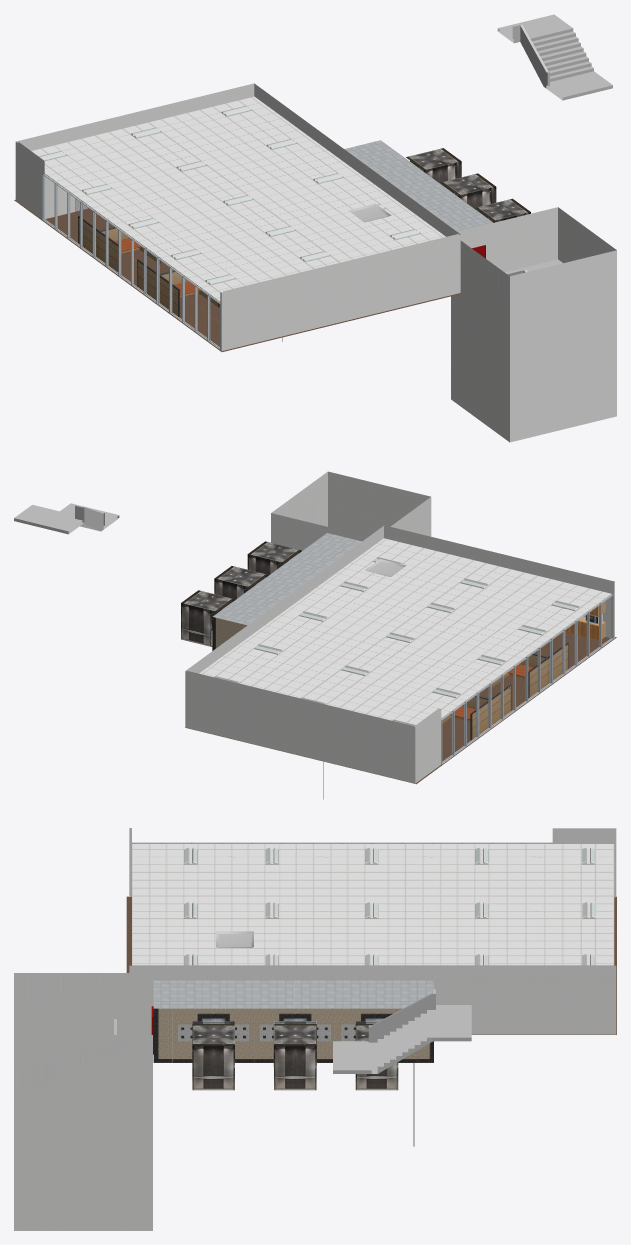
The picture shows the model from 3 angles, top to bottom: view 1: azimuth 30°, elevation 25°; view 2: azimuth 150°, elevation 25°; view 3: azimuth 270°, elevation 25°; orthographic projection. The views are drawn at different scales.
Parts seen in each view (by area): view 1: Ceiling, BigWall, polySurface112, StairsPart1, polySurface110, Stairspart2, polySurface113, Floor, OfficeCubicle1, OfficeCubicle, ElevatorShaft1, ElevatorShaft2 (+2 smaller); view 2: Ceiling, BigWall, polySurface112, polySurface113, Floor, polySurface110, ElevatorShaft2, OfficeCubicle, OfficeCubicle1, ElevatorShaft, ElevatorShaft1, PantryBot; view 3: Ceiling, polySurface112, BigWall, polySurface113, StairsPart1, polySurface110, Stairspart2, ElevatorShaft, ElevatorShaft1, ElevatorDoorWall, ElevatorDoorWall1, ElevatorDoorWall2 (+3 smaller).
Part boxes in pixels (x1,y1,x2,y2): Ceiling: (31,96,445,301); BigWall: (15,83,460,351); polySurface112: (451,207,616,359); StairsPart1: (451,344,616,442); polySurface110: (497,14,612,100); Stairspart2: (451,316,616,386); polySurface113: (344,140,493,231); Floor: (14,200,461,351); OfficeCubicle1: (137,259,219,316); OfficeCubicle: (78,215,160,272); ElevatorShaft1: (440,173,496,211); ElevatorShaft2: (406,148,461,186); Ceiling: (199,538,611,724); BigWall: (185,525,614,783); polySurface112: (271,471,431,550); polySurface113: (212,533,361,650); Floor: (185,632,616,784); polySurface110: (14,503,119,534); ElevatorShaft2: (181,590,234,646); OfficeCubicle: (442,684,511,740); OfficeCubicle1: (490,642,568,698); ElevatorShaft: (247,541,301,575); ElevatorShaft1: (214,566,268,599); PantryBot: (564,616,605,640); Ceiling: (132,844,614,965); polySurface112: (14,973,152,1132); BigWall: (129,828,616,1034); polySurface113: (153,980,433,1062); StairsPart1: (14,1165,152,1230); polySurface110: (333,989,471,1073); Stairspart2: (14,1133,152,1165); ElevatorShaft: (192,1024,234,1090); ElevatorShaft1: (274,1024,316,1090); ElevatorDoorWall: (173,1008,254,1062); ElevatorDoorWall1: (254,1008,335,1062); ElevatorDoorWall2: (336,1008,417,1062).
Bounding box in the file's own units: 32.55 × 16.29 × 30.1.
